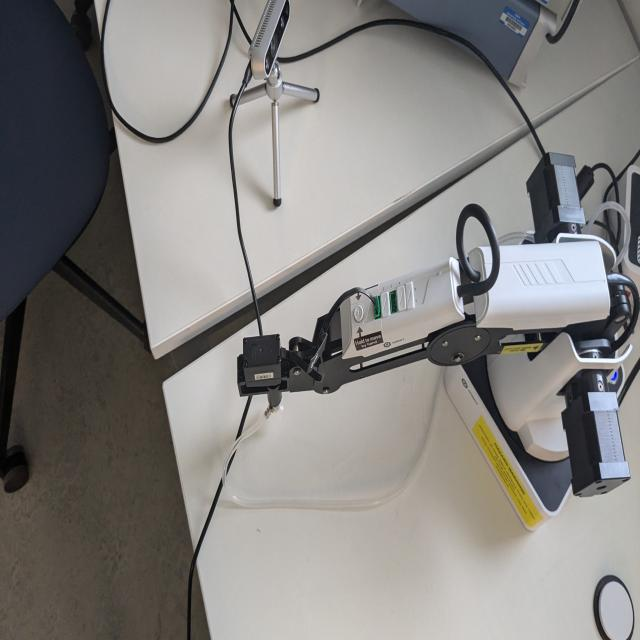Robot-end-effector-HF8z: (233, 329, 290, 423)
